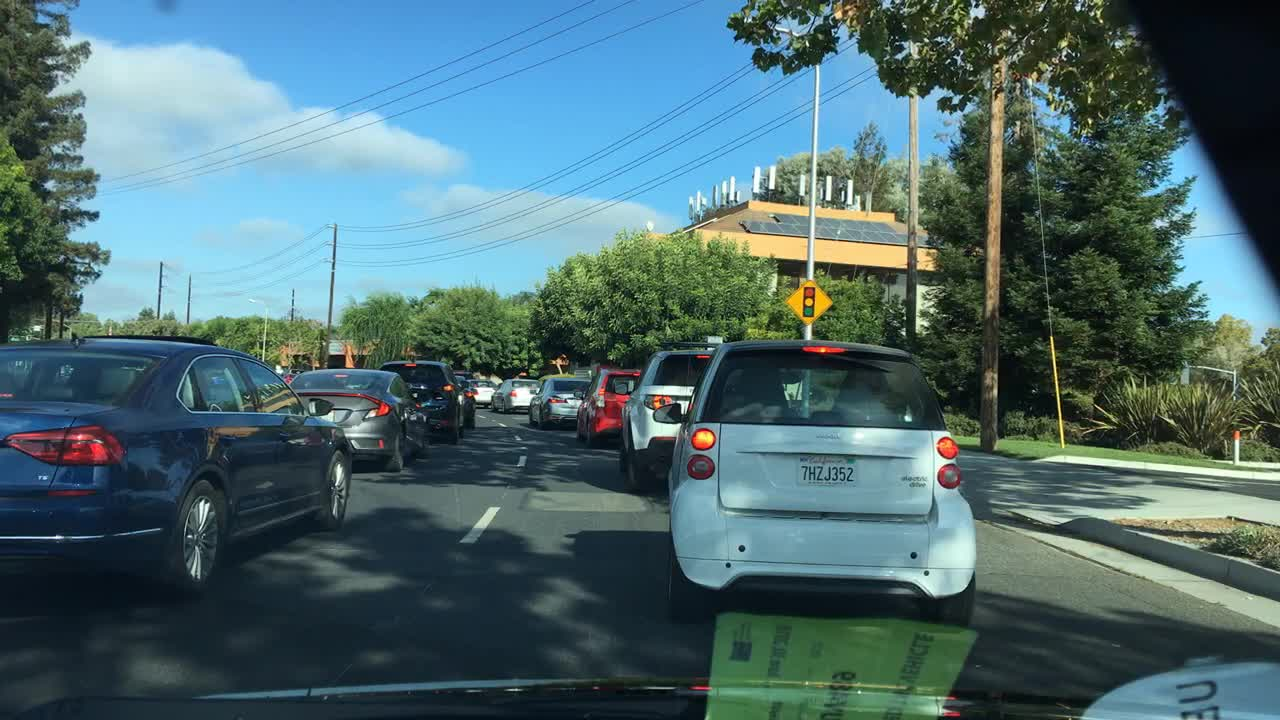car: (0, 331, 355, 598), (663, 335, 979, 629), (289, 367, 425, 472), (621, 346, 713, 489), (379, 358, 465, 443), (574, 367, 641, 446), (527, 373, 593, 427), (487, 375, 541, 415), (453, 373, 477, 431), (467, 377, 496, 403)
traffic sign: (785, 277, 832, 325)
